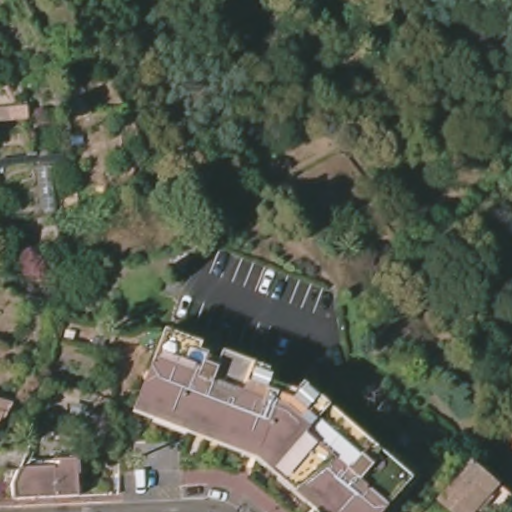pool: (185, 346, 207, 364)
